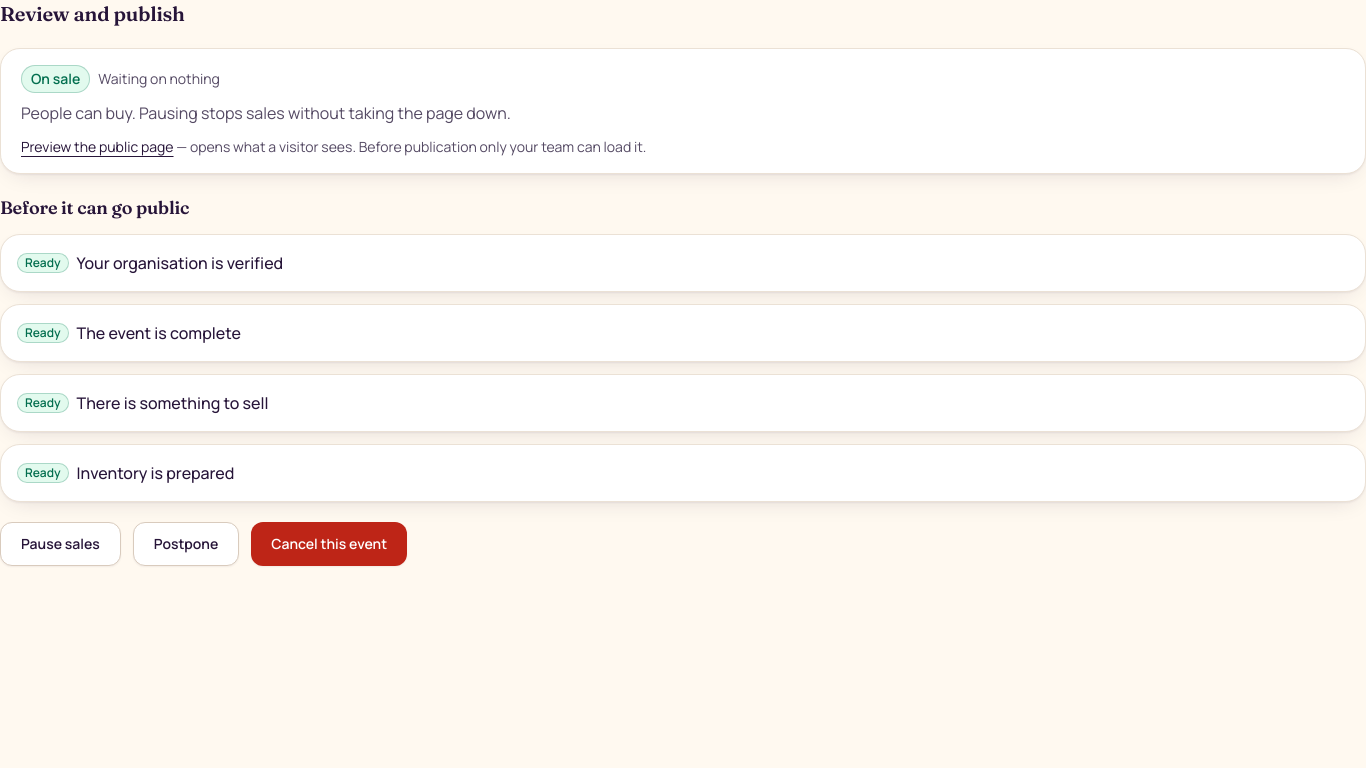
Test: cancelling an event › shows the API's refusal rather than a shrug
The image size is (1366, 768).
Click the button "Cancel this event". click: (329, 544)
box: [251,522,407,566]
(page scrolled)
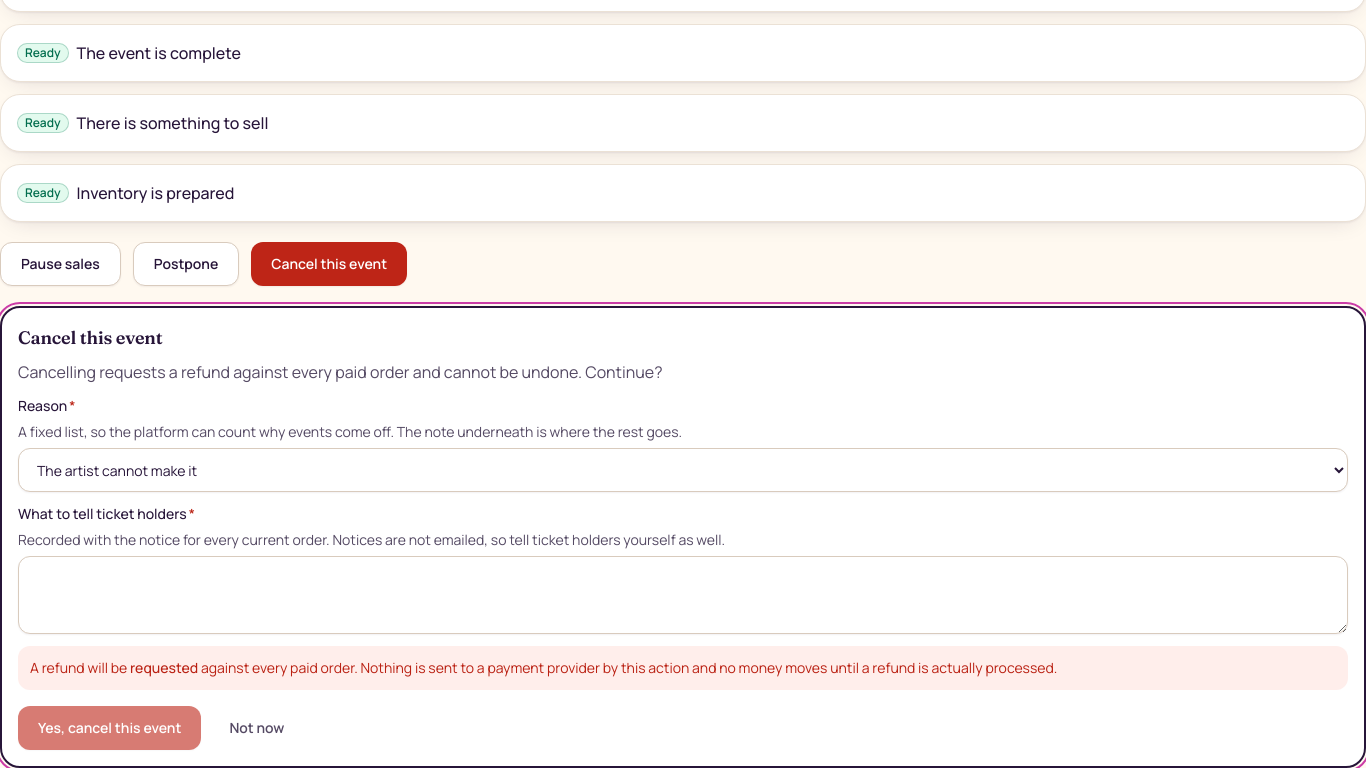
Type "Flooded." into the text box labelled "What to tell ticket holders*". click: (683, 595)
box: [18,556,1348,634]
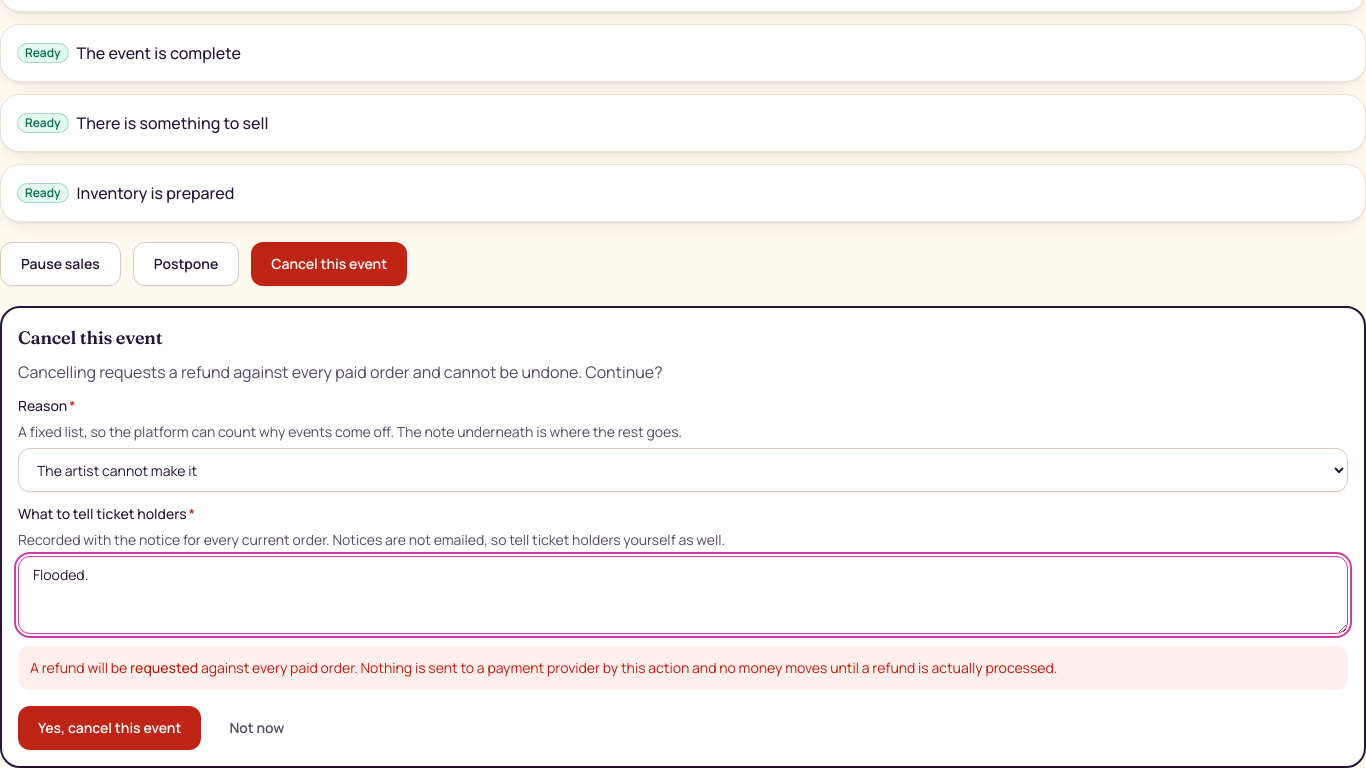
Click the button "Yes, cancel this event". click: (110, 728)
box: [18,706,201,750]
(page scrolled)
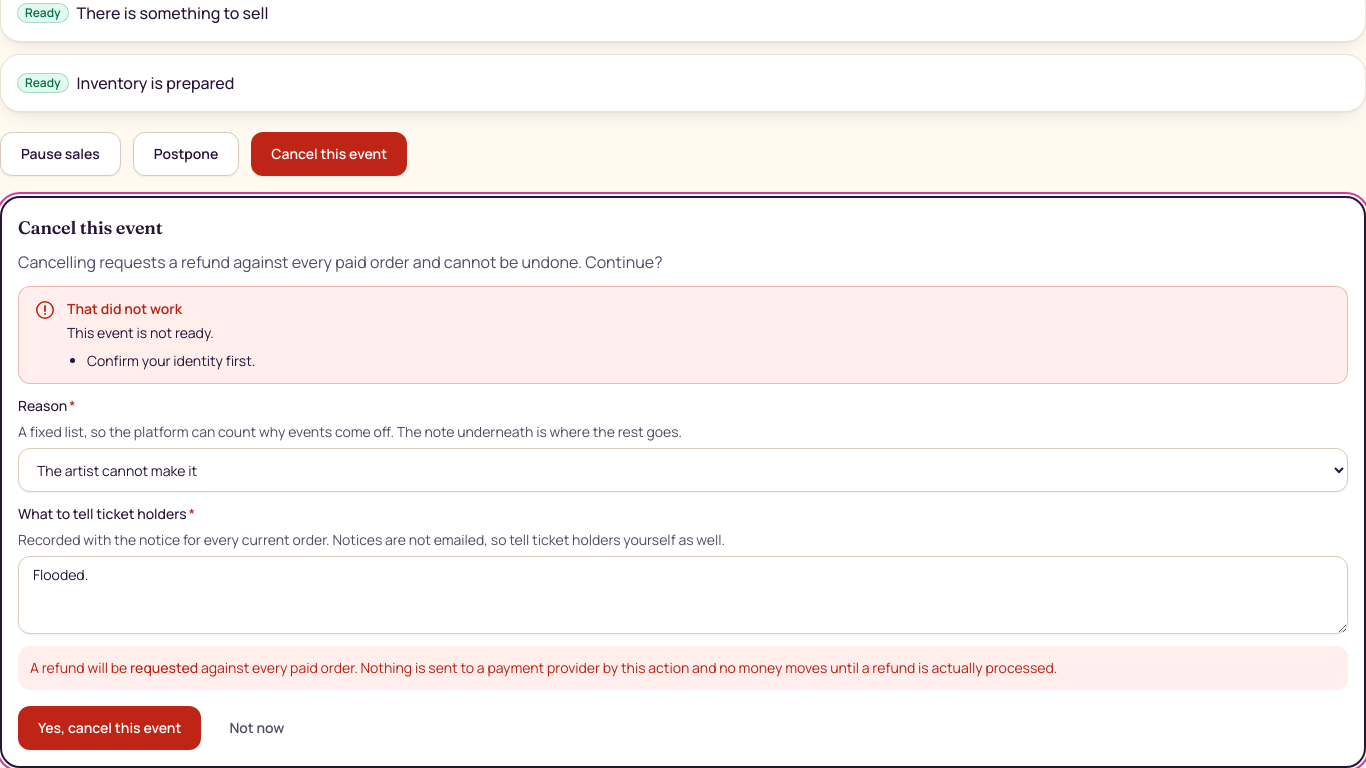
Check: the text "This event is not ready." is shown, box [67,323,214,342]
Check: the list item "Confirm your identity first." is shown, box [87,351,255,370]
